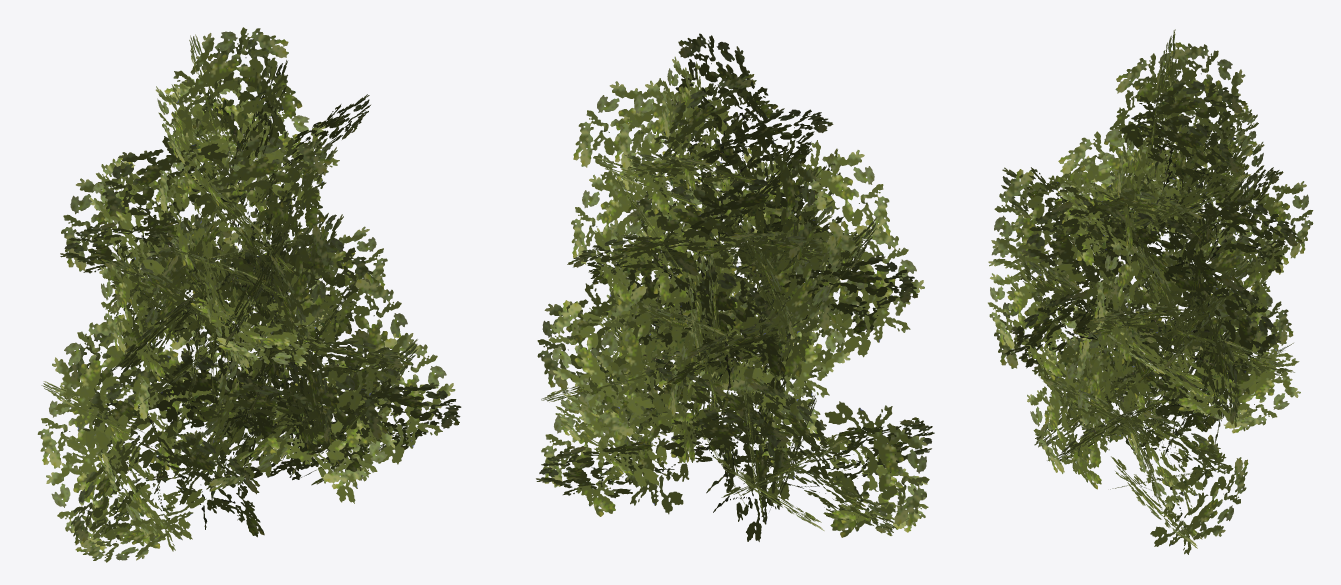
The model's file is busch_5.glb.
The picture shows the model from 3 angles, left to right: view 1: azimuth 30°, elevation 25°; view 2: azimuth 150°, elevation 25°; view 3: azimuth 270°, elevation 25°; orthographic projection. The views are drawn at different scales.
Visible parts, largest first — view 1: laub; view 2: laub; view 3: laub.
Boxes of the visible parts, x1,y1,x2,y2 form: laub: (37,27,461,562); laub: (536,33,934,541); laub: (988,29,1313,554).
Size of the model in its own units: 2.83 by 3.6 by 2.44.
1 material, 1 textured.
